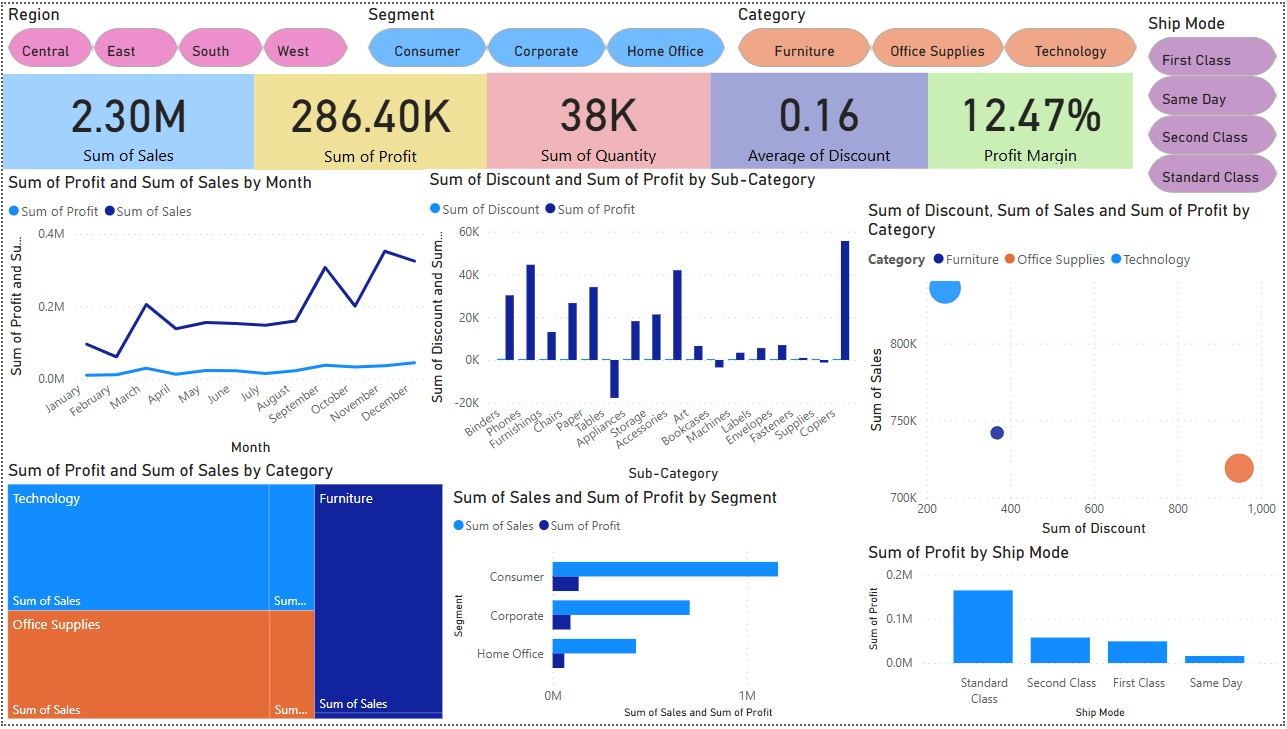

The page's visual inventory and layout, read from the dashboard file:
{"tool":"powerbi","page":{"name":"Page 1","canvas":[1280,720],"ordinal":0},"visuals":[{"type":"lineChart","fields":{"Category":["Superstore.Order Date.Variation.Date Hierarchy.Year","Superstore.Order Date.Variation.Date Hierarchy.Quarter","Superstore.Order Date.Variation.Date Hierarchy.Month","Superstore.Order Date.Variation.Date Hierarchy.Day"],"Y":["Sum(Superstore.Profit)","Sum(Superstore.Sales)"]},"box":[0,167.5,428.8,288.8],"z":0},{"type":"advancedSlicerVisual","fields":{"Values":["Superstore.Region"]},"box":[0,0,350.8,68.5],"z":4000},{"type":"advancedSlicerVisual","fields":{"Values":["Superstore.Segment"]},"box":[360.6,0,369.2,68.5],"z":4001},{"type":"advancedSlicerVisual","fields":{"Values":["Superstore.Category"]},"box":[729.8,0,410.7,68.5],"z":4002},{"type":"advancedSlicerVisual","fields":{"Values":["Superstore.Ship Mode"]},"box":[1140.5,8.6,139.4,187],"z":4003},{"type":"card","fields":{"Values":["Sum(Superstore.Sales)"]},"box":[0,70,251.2,95],"z":4004},{"type":"card","fields":{"Values":["Sum(Superstore.Profit)"]},"box":[251.2,70,232.5,96.2],"z":4005},{"type":"card","fields":{"Values":["Sum(Superstore.Quantity)"]},"box":[483.8,68.8,223.8,96.2],"z":4006},{"type":"card","fields":{"Values":["Avg(Superstore.Discount)"]},"box":[707.5,68.8,217.5,96.2],"z":4007},{"type":"card","fields":{"Values":["Superstore.Profit Margin"]},"box":[925,68.8,205,96.2],"z":4008},{"type":"scatterChart","fields":{"X":["Sum(Superstore.Discount)"],"Series":["Superstore.Category"],"Y":["Sum(Superstore.Sales)"],"Size":["Sum(Superstore.Profit)"]},"box":[860,196.2,418.8,341.2],"z":4009},{"type":"columnChart","fields":{"Category":["Superstore.Ship Mode"],"Y":["Sum(Superstore.Profit)"]},"box":[860,537.5,420,182.5],"z":4011},{"type":"clusteredBarChart","fields":{"Category":["Superstore.Segment"],"Y":["Sum(Superstore.Sales)","Sum(Superstore.Profit)"]},"box":[445,482.5,415,237.5],"z":4012},{"type":"clusteredColumnChart","fields":{"Y":["Sum(Superstore.Discount)","Sum(Superstore.Profit)"],"Category":["Superstore.Sub-Category"]},"box":[421.2,165,438.8,317.5],"z":4013},{"type":"treemap","fields":{"Group":["Superstore.Category"],"Values":["Sum(Superstore.Profit)","Sum(Superstore.Sales)"]},"box":[0,456.2,445,263.8],"z":4014}]}

Visuals, with their boxes in screenshot pixels (x1, y1, x2, y2), scaled from the page's 1280x720 canvas onto the 1287x729 screenshot:
lineChart - Superstore.Order Date.Variation.Date Hierarchy.Year x Superstore.Order Date.Variation.Date Hierarchy.Quarter: <box>0,170,431,462</box>
advancedSlicerVisual - Superstore.Region: <box>0,0,353,69</box>
advancedSlicerVisual - Superstore.Segment: <box>363,0,734,69</box>
advancedSlicerVisual - Superstore.Category: <box>734,0,1147,69</box>
advancedSlicerVisual - Superstore.Ship Mode: <box>1147,9,1286,198</box>
card - Sum(Superstore.Sales): <box>0,71,253,167</box>
card - Sum(Superstore.Profit): <box>253,71,486,168</box>
card - Sum(Superstore.Quantity): <box>486,70,711,167</box>
card - Avg(Superstore.Discount): <box>711,70,930,167</box>
card - Superstore.Profit Margin: <box>930,70,1136,167</box>
scatterChart - Sum(Superstore.Discount) x Superstore.Category: <box>865,199,1286,544</box>
columnChart - Superstore.Ship Mode x Sum(Superstore.Profit): <box>865,544,1286,728</box>
clusteredBarChart - Superstore.Segment x Sum(Superstore.Sales): <box>447,489,865,728</box>
clusteredColumnChart - Sum(Superstore.Discount) x Sum(Superstore.Profit): <box>424,167,865,489</box>
treemap - Superstore.Category x Sum(Superstore.Profit): <box>0,462,447,728</box>
